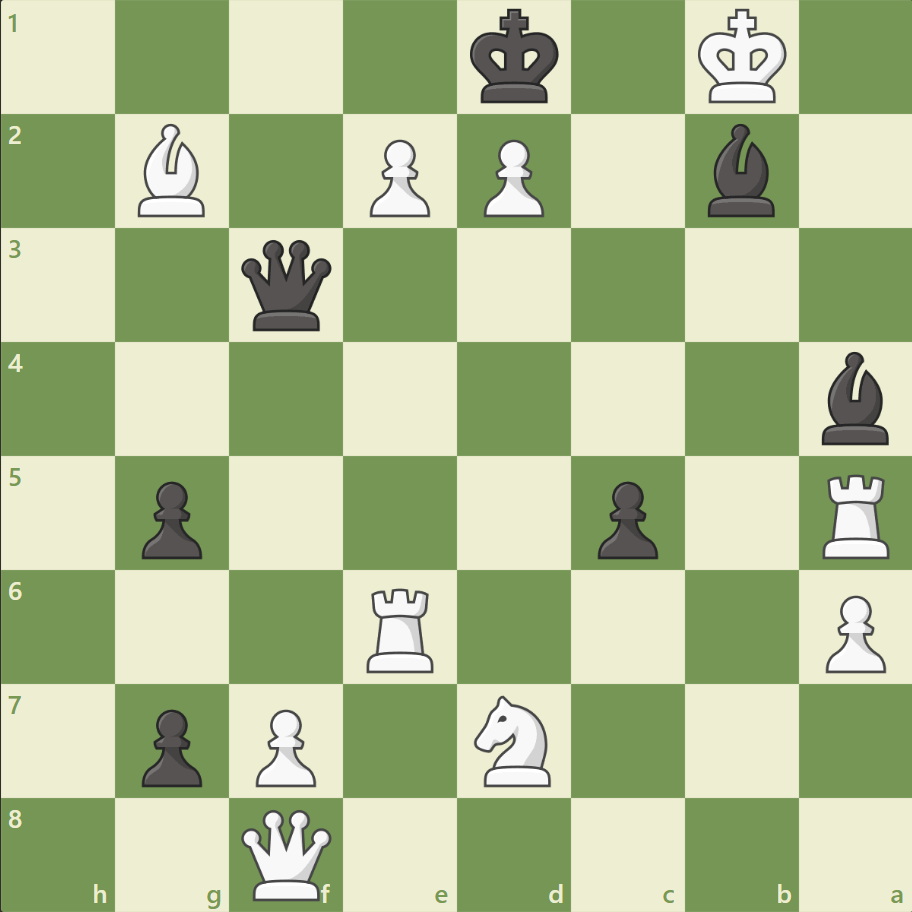B: (131, 120, 215, 222)
K: (692, 4, 792, 112)
N: (465, 688, 562, 791)
P: (247, 700, 322, 791), (474, 132, 549, 223), (815, 586, 889, 677), (361, 132, 435, 223)
Q: (237, 804, 336, 903)
R: (814, 466, 897, 563), (360, 579, 442, 676)
b: (812, 347, 896, 449), (698, 120, 782, 222)
k: (465, 4, 565, 112)
p: (133, 700, 208, 791), (133, 473, 208, 564), (588, 473, 662, 564)
q: (237, 236, 336, 335)
